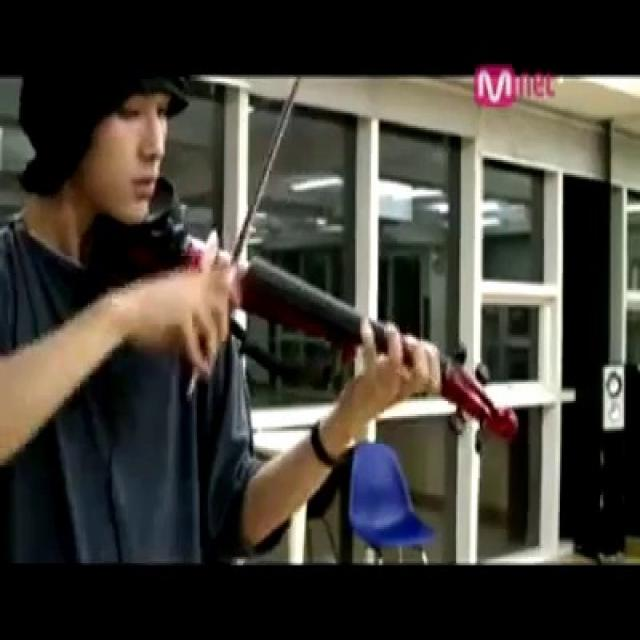Violin: (60, 171, 543, 456)
